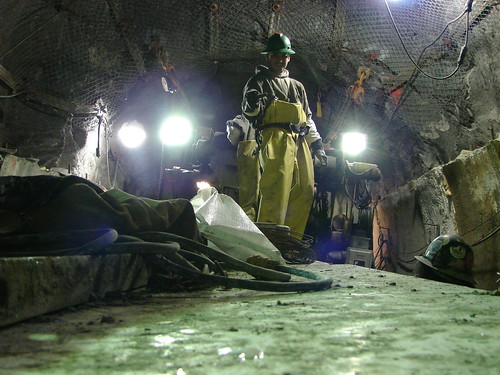person hardhat: (235, 35, 326, 257)
